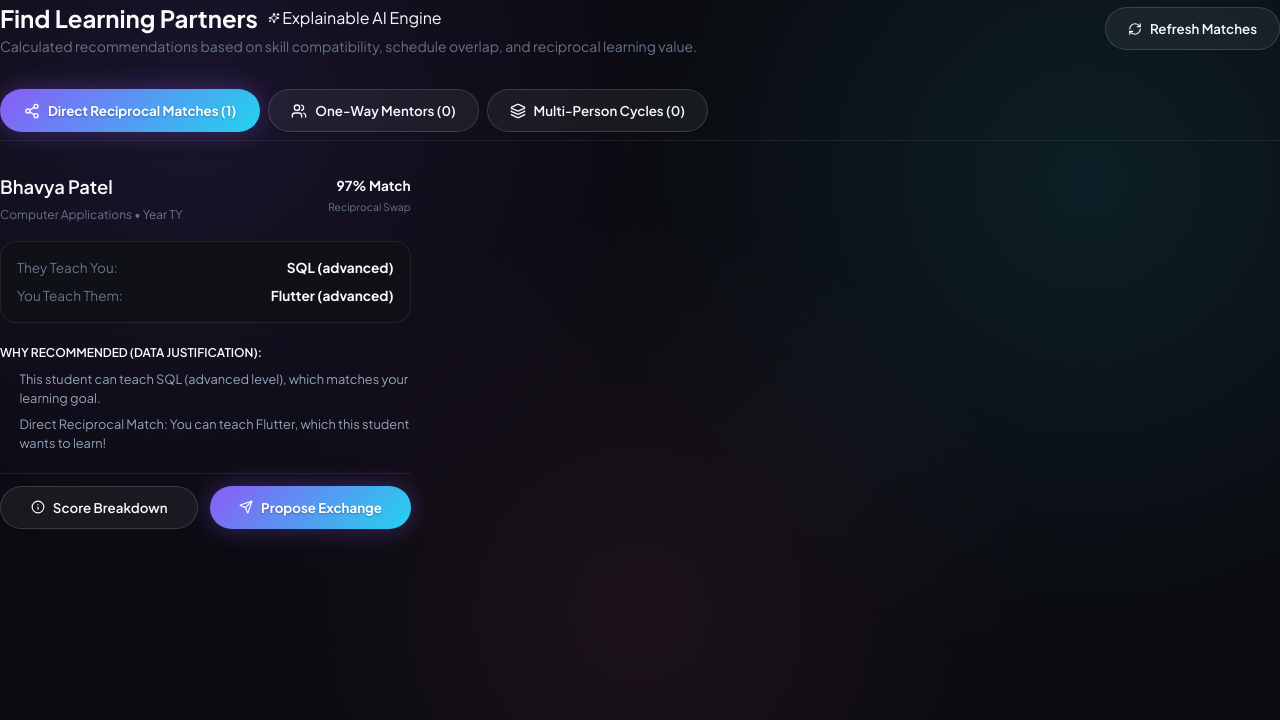
it: Frontend Matching & Recommendation Components › opens propose exchange modal when button is clicked
Click the button "Propose Exchange": {"x": 310, "y": 507} [210,486,411,529]
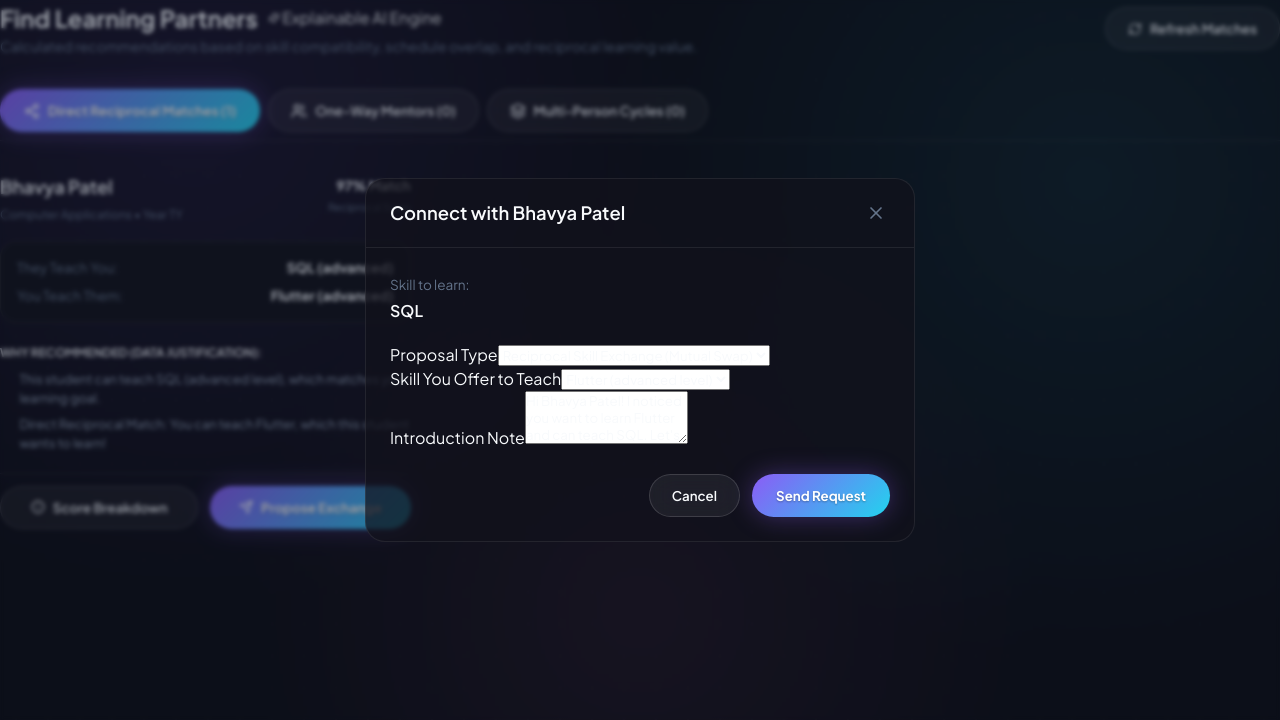
Expected: the heading "Connect with Bhavya Patel" is shown, [390,199,625,227]
Expected: the button "Send Request" is shown, [752,474,890,517]
